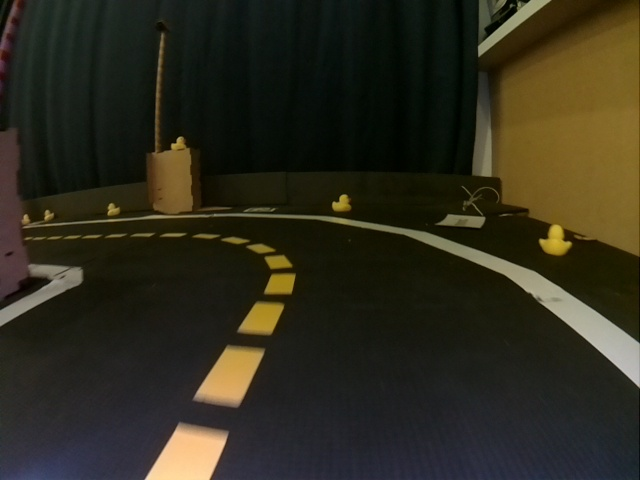Duckie: (539, 225, 571, 255), (332, 195, 350, 212), (172, 138, 185, 148), (108, 203, 118, 215), (21, 214, 29, 222), (44, 210, 51, 219)
QR code: (244, 206, 277, 214)
